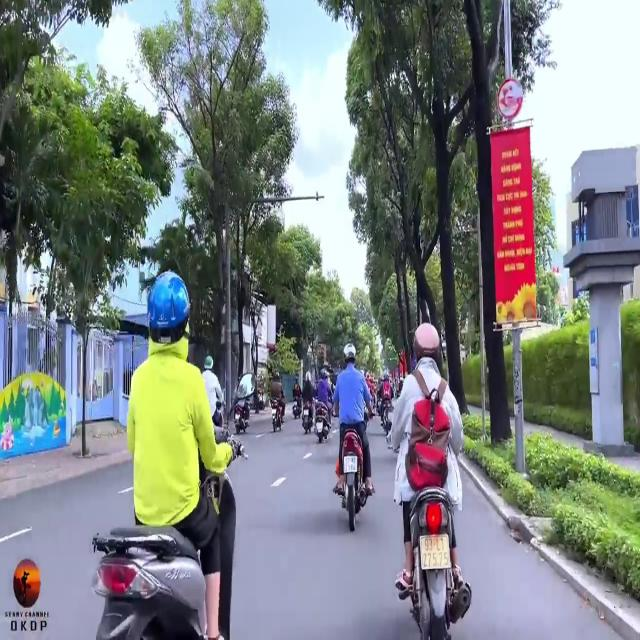bien_trang: (421, 534, 452, 571)
